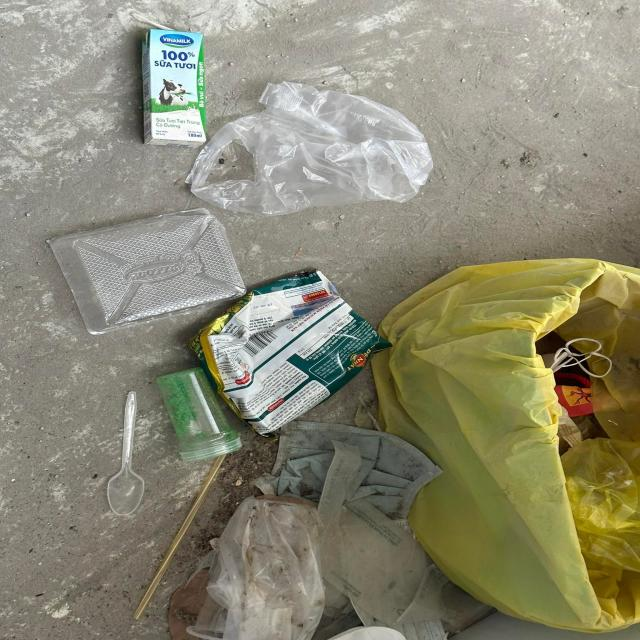bag: (185, 82, 431, 212), (207, 498, 327, 640)
drinking straw: (136, 454, 226, 621)
mask: (269, 420, 442, 543)
milk box: (139, 30, 207, 146)
plastic holder: (49, 208, 246, 336)
plastic utensil: (107, 392, 146, 514)
snack package: (190, 267, 393, 434)
trash bag: (371, 258, 640, 634)
